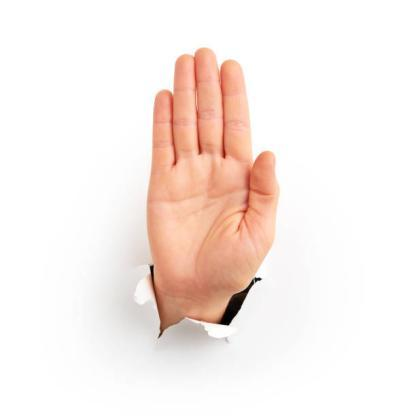stop: (145, 42, 282, 296)
